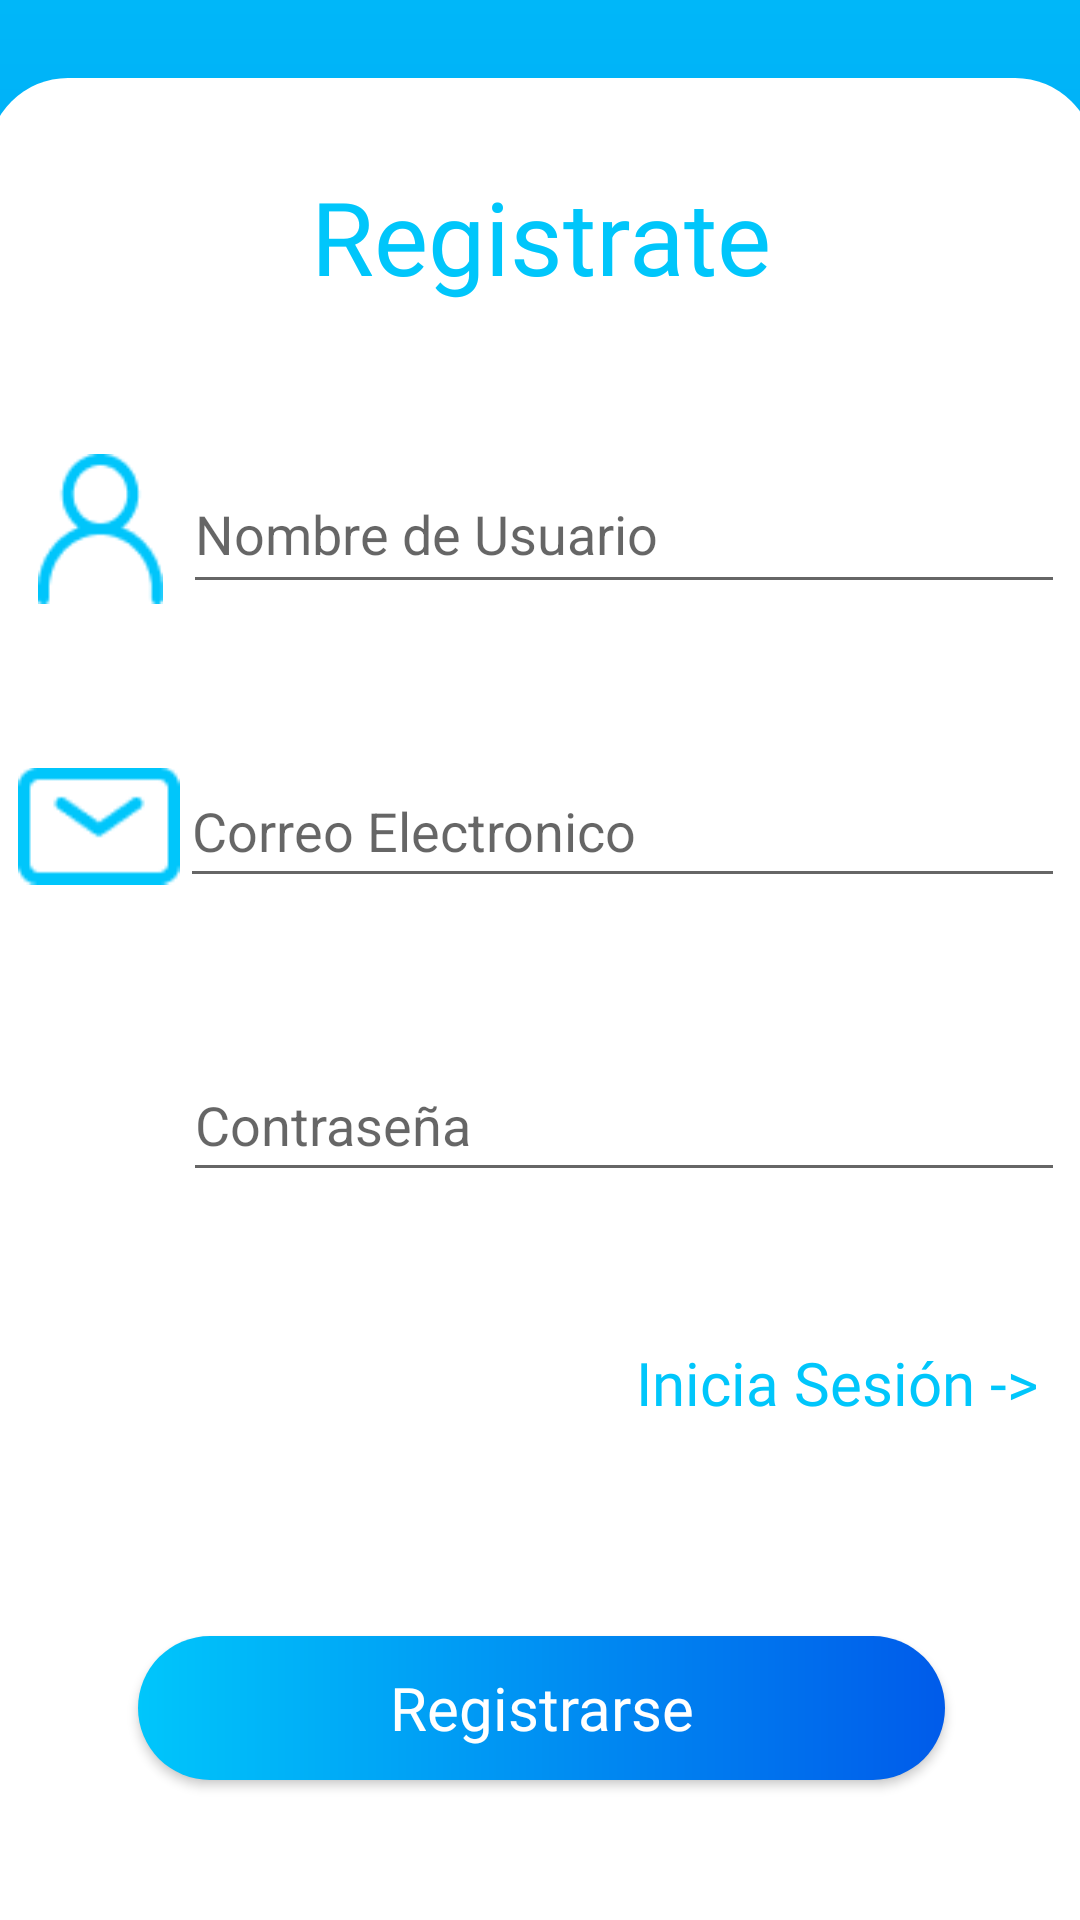

Named icons in this screenshot (1080px x 1920px) and their bounding boxes, (x1, y1, x2, y2):
mail: (18, 768, 180, 885)
user: (38, 454, 163, 604)
